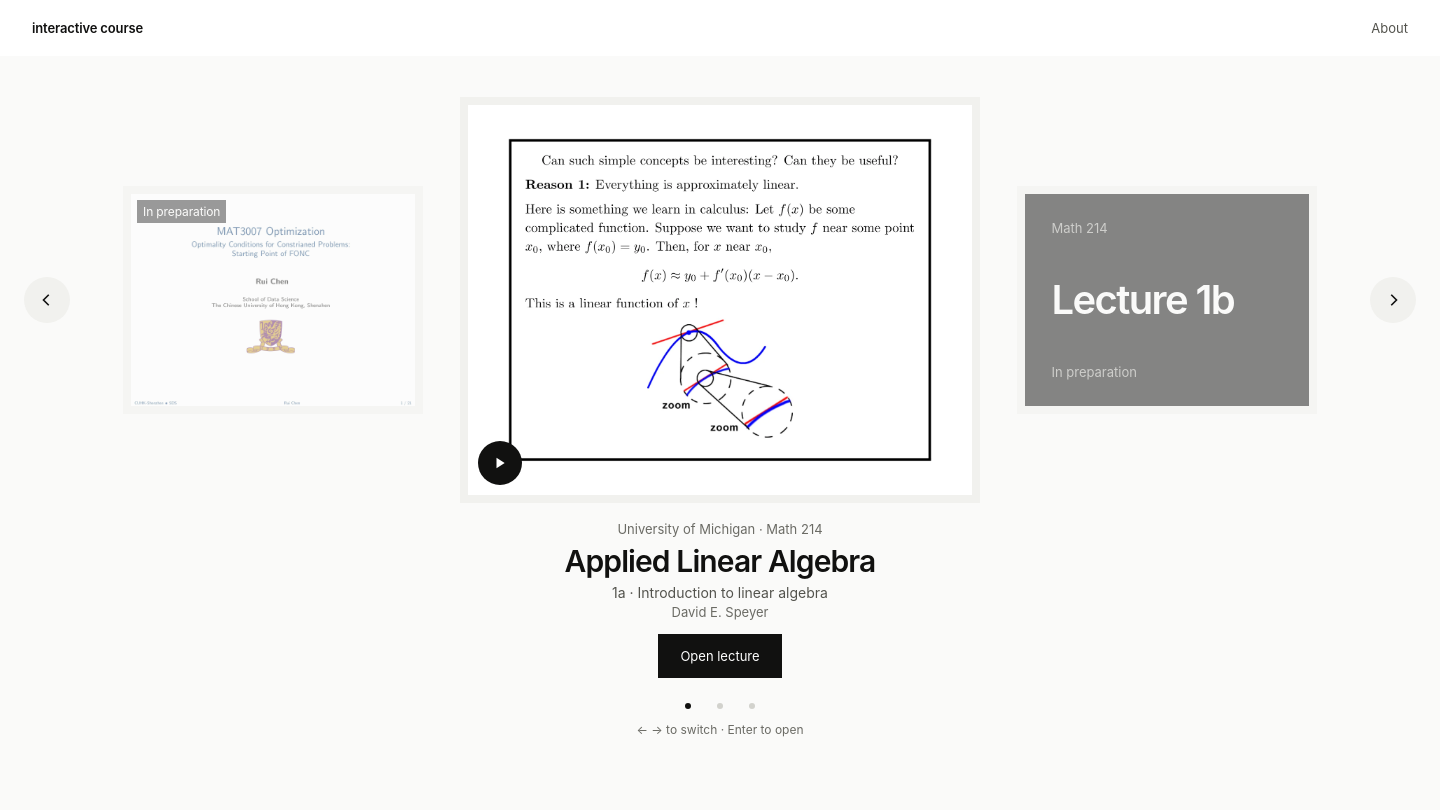
Test: CourseMapView › centers the next card and disables entry while in preparation
The width and height of the screenshot is (1440, 810).
Click the button named "Next course" at (1393, 300), box [1370, 277, 1416, 323]
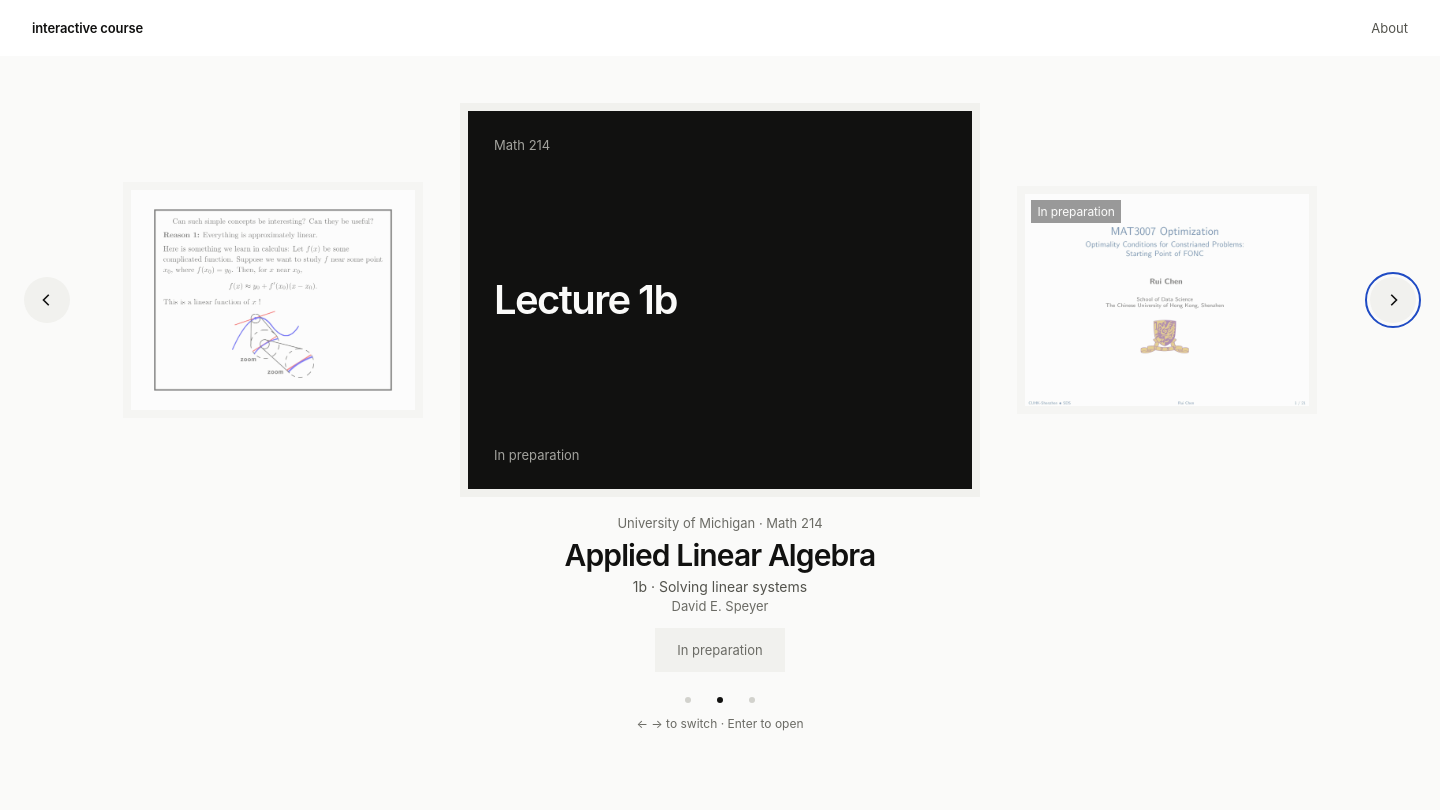
Expected: the text "1b · Solving linear systems" is shown, [633, 578, 807, 595]
Expected: the button "In preparation" below "David E. Speyer" is disabled, [655, 628, 785, 672]
